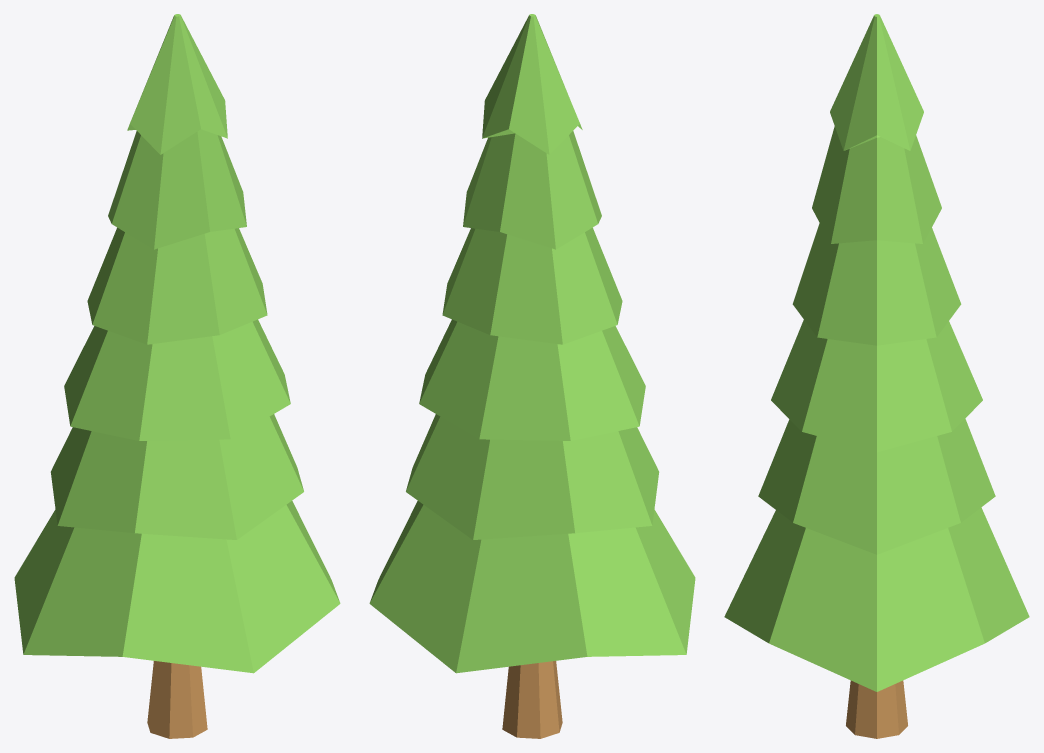
The model's file is Pohon cemara.fbx.
3 views of the same model, side by side, from view 1: azimuth 30°, elevation 25°; view 2: azimuth 150°, elevation 25°; view 3: azimuth 270°, elevation 25° (orthographic).
Visible parts, largest first — view 1: Cylinder, Cylinder.001; view 2: Cylinder, Cylinder.001; view 3: Cylinder, Cylinder.001.
Boxes of the visible parts, bbox=[...] form: Cylinder: bbox=[14, 14, 340, 673]; Cylinder.001: bbox=[147, 661, 207, 738]; Cylinder: bbox=[369, 14, 695, 673]; Cylinder.001: bbox=[502, 661, 562, 738]; Cylinder: bbox=[724, 14, 1029, 691]; Cylinder.001: bbox=[846, 680, 907, 738].
Size of the model in its own units: 375 by 827 by 322.
